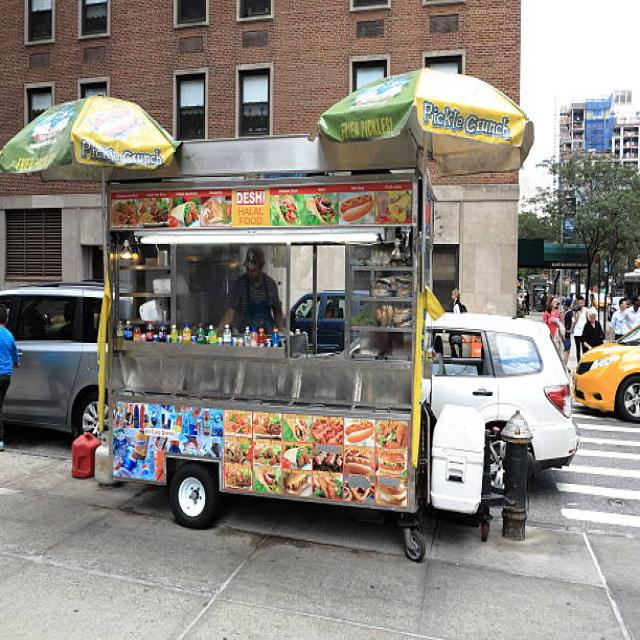Emperan: (94, 136, 538, 574)
